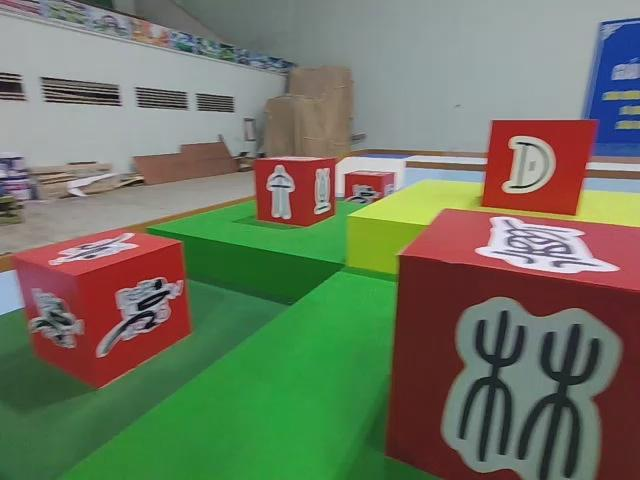R1: (12, 224, 190, 392), (345, 168, 398, 207)
R2 Fake: (382, 206, 640, 480), (254, 155, 337, 226)
R2 Real: (479, 116, 599, 219)
